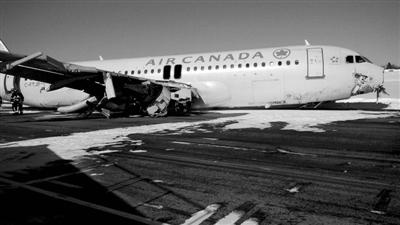airplane: (1, 34, 388, 119)
